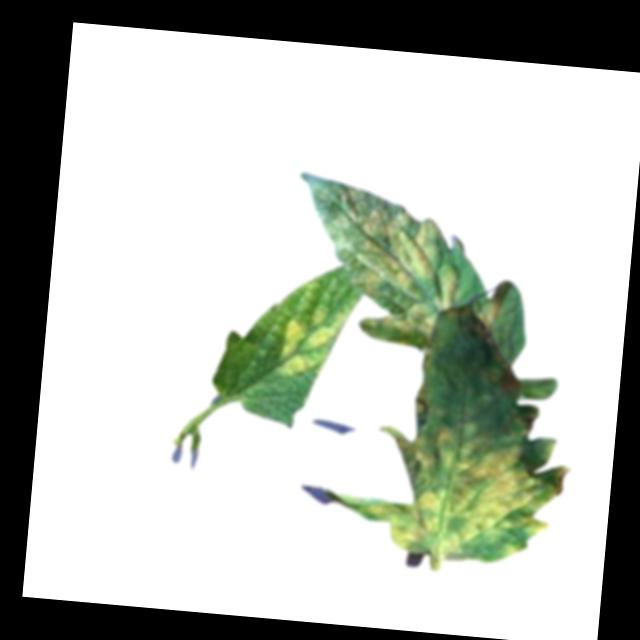Leaf_Mold: (367, 415, 575, 568), (327, 198, 463, 309), (277, 302, 348, 382), (361, 296, 437, 341), (478, 297, 502, 327)
